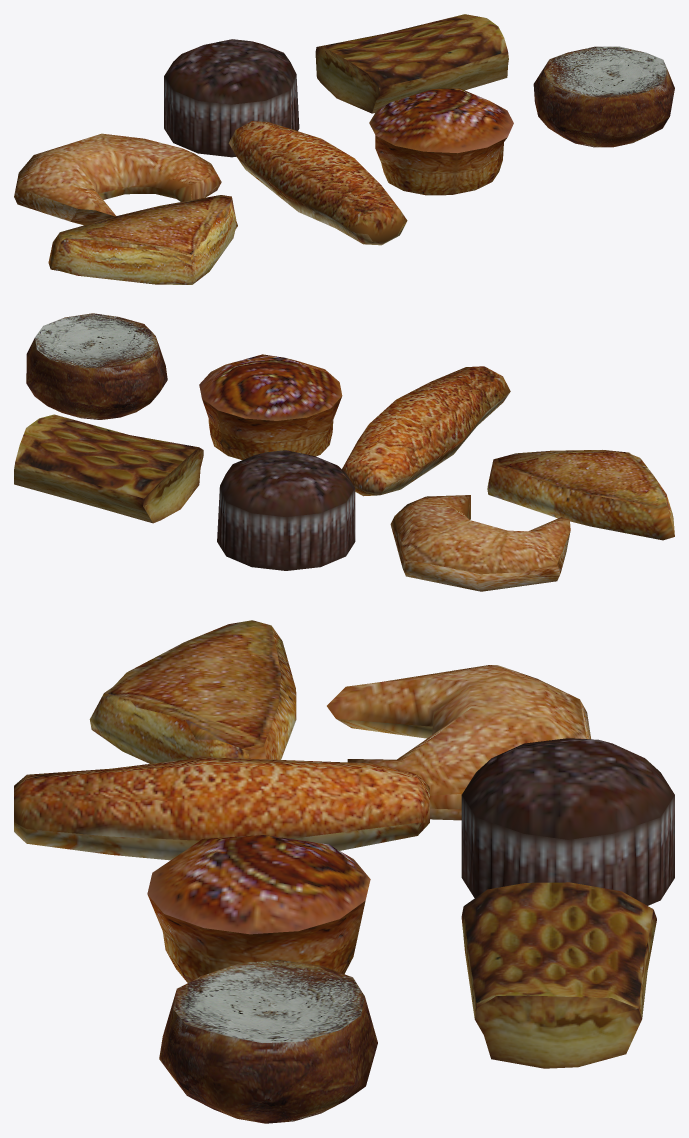
File: pastries.FBX
The picture shows the model from 3 angles, top to bottom: view 1: azimuth 30°, elevation 25°; view 2: azimuth 150°, elevation 25°; view 3: azimuth 270°, elevation 25°; orthographic projection. The views are drawn at different scales.
Visible parts, largest first — view 1: Line02, Loft01, Cylinder03, Line01, Cylinder02, Cylinder04, Cylinder01; view 2: Cylinder02, Line02, Cylinder04, Loft01, Line01, Cylinder03, Cylinder01; view 3: Cylinder01, Line02, Cylinder02, Cylinder04, Cylinder03, Line01, Loft01.
Boxes of the visible parts, left/top/right/bottom form: Line02: left=315, top=14, right=508, bottom=113; Loft01: left=14, top=133, right=221, bottom=225; Cylinder03: left=369, top=88, right=513, bottom=195; Line01: left=48, top=195, right=237, bottom=284; Cylinder02: left=164, top=39, right=299, bottom=157; Cylinder04: left=533, top=46, right=674, bottom=147; Cylinder01: left=228, top=121, right=407, bottom=245; Cylinder02: left=217, top=450, right=355, bottom=570; Line02: left=14, top=414, right=203, bottom=523; Cylinder04: left=26, top=313, right=167, bottom=419; Loft01: left=390, top=495, right=570, bottom=591; Line01: left=487, top=450, right=674, bottom=540; Cylinder03: left=199, top=354, right=342, bottom=459; Cylinder01: left=342, top=366, right=510, bottom=496; Cylinder01: left=14, top=757, right=429, bottom=860; Line02: left=461, top=882, right=656, bottom=1068; Cylinder02: left=461, top=738, right=674, bottom=905; Cylinder04: left=159, top=960, right=377, bottom=1123; Cylinder03: left=147, top=835, right=370, bottom=982; Line01: left=89, top=620, right=296, bottom=763; Loft01: left=327, top=665, right=590, bottom=820.
Bounding box in the file's own units: 29.66 × 3.49 × 17.28.
